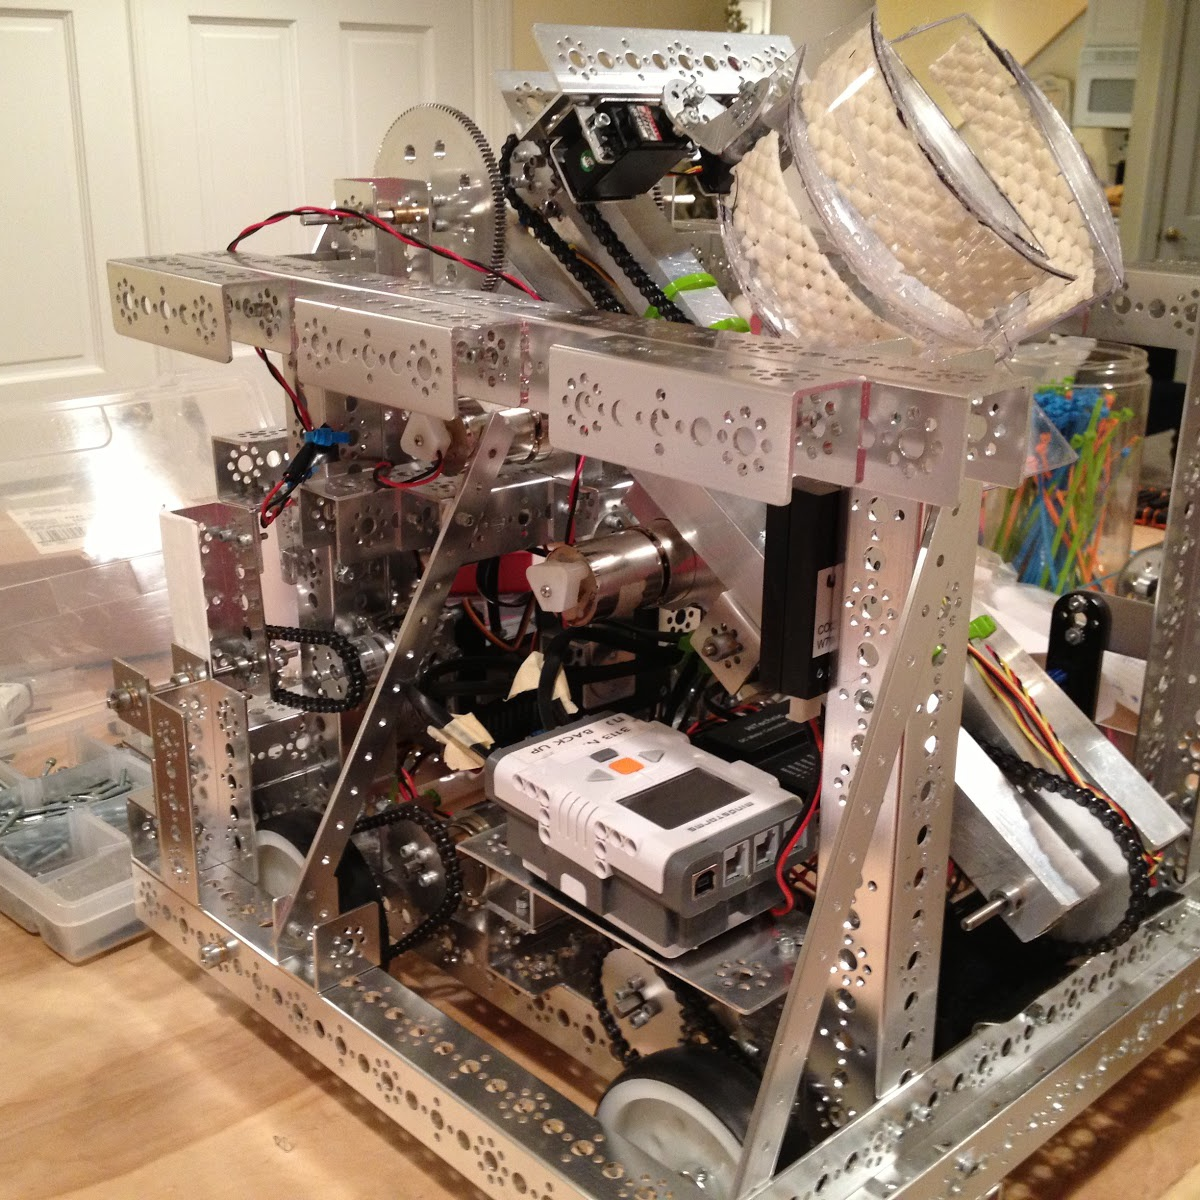robot: (89, 1, 1200, 1200)
